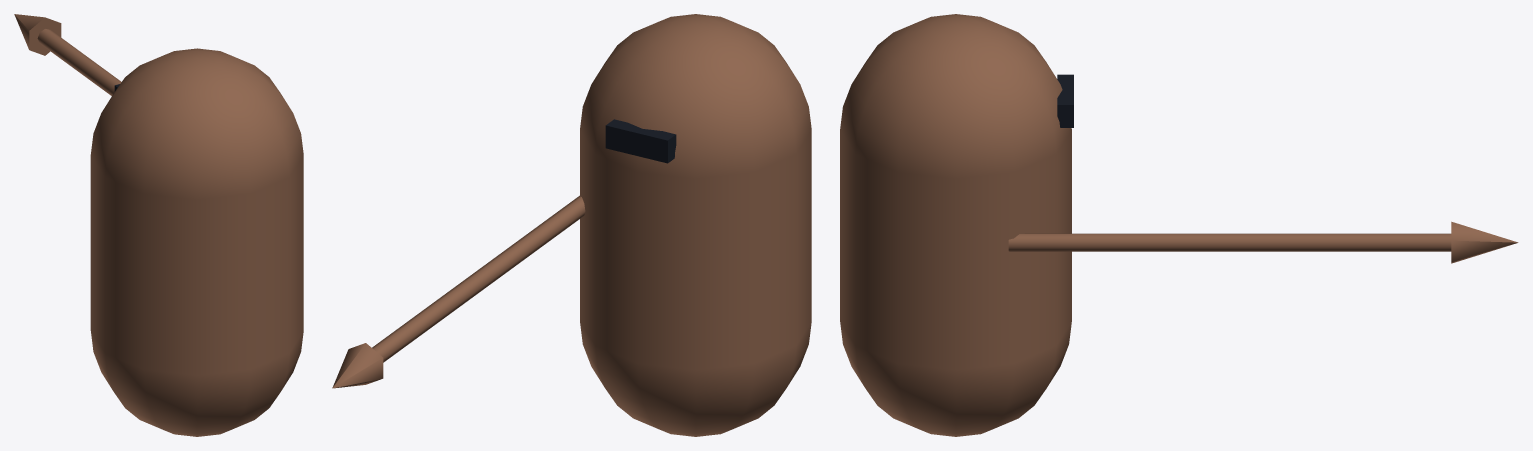
Rendered from enemy-playground-ashen-lancer-v1.glb.
3 renders of one model, left to right at view 1: azimuth 30°, elevation 25°; view 2: azimuth 150°, elevation 25°; view 3: azimuth 270°, elevation 25°, orthographic. The views are drawn at different scales.
Visible parts, largest first — view 1: Ashen Lancer; view 2: Ashen Lancer; view 3: Ashen Lancer.
Boxes of the visible parts, <box> form: Ashen Lancer: <box>14,14,303,436</box>; Ashen Lancer: <box>332,14,811,436</box>; Ashen Lancer: <box>840,14,1518,436</box>.
Bounding box in the file's own units: 1.1 × 2.1 × 3.22.
